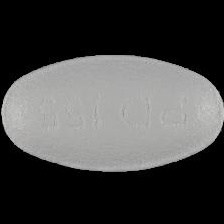54868-3934: (0, 0, 224, 224)
